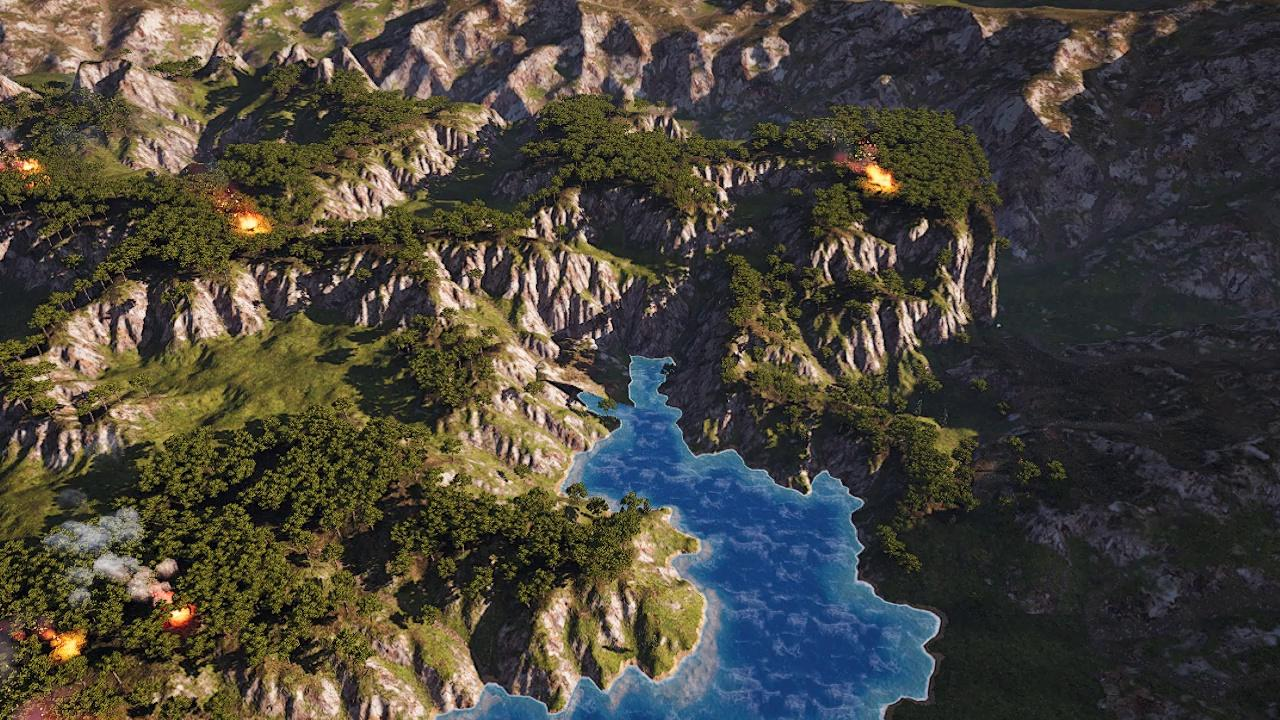fire: (37, 624, 89, 662), (8, 153, 44, 177), (863, 166, 894, 193), (235, 209, 271, 232), (168, 604, 195, 629)
smoke: (40, 499, 177, 610)
